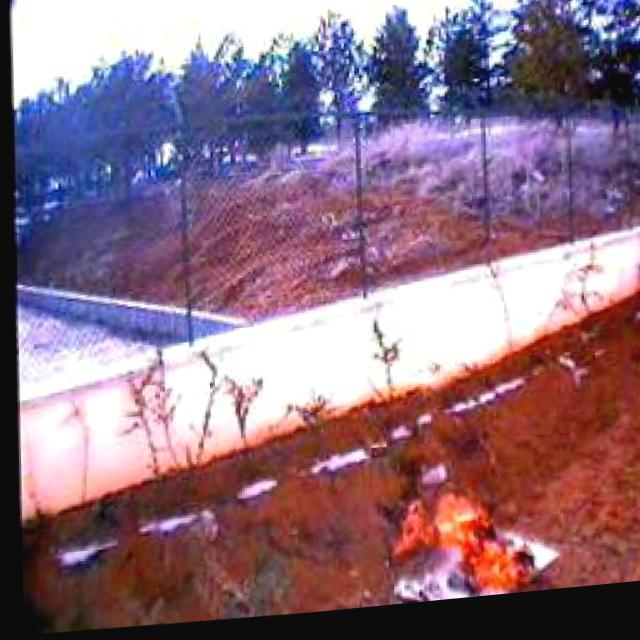helmet: (383, 492, 536, 612)
